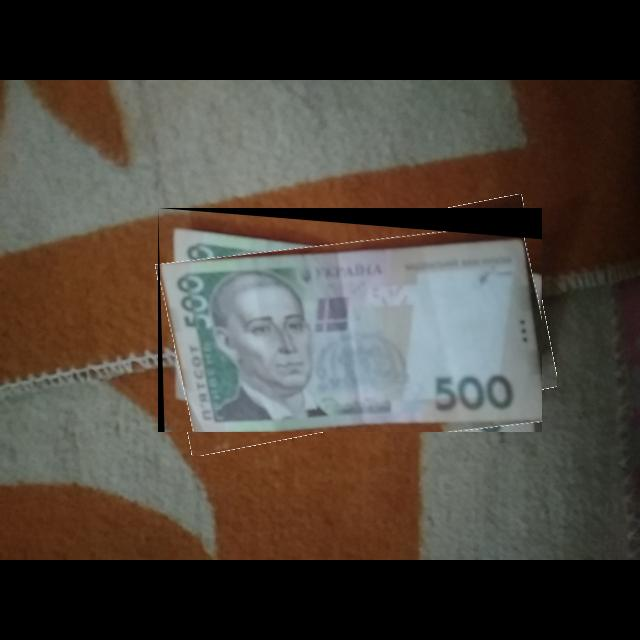500uah: (160, 232, 543, 433)
